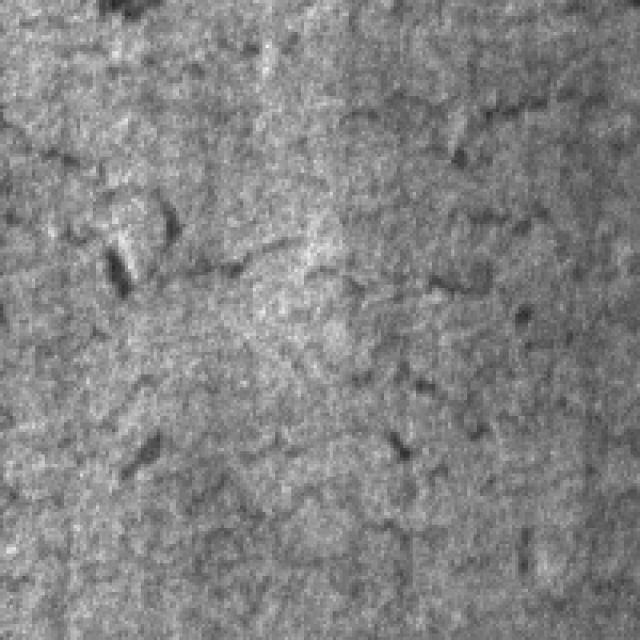crazing: (284, 86, 554, 237), (282, 250, 496, 435), (0, 106, 189, 300)
